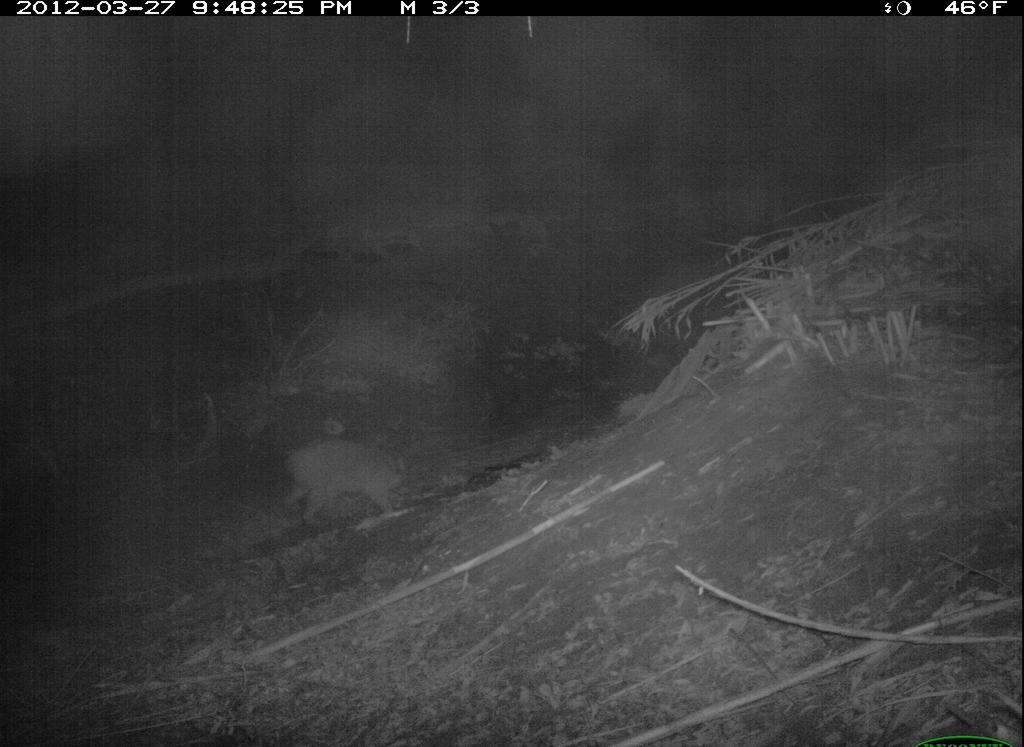raccoon: (274, 424, 422, 534)
